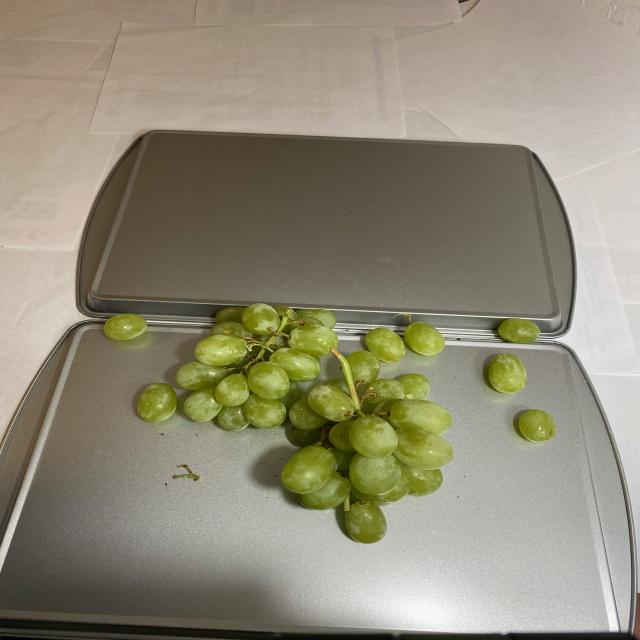grapes: (94, 301, 558, 545)
